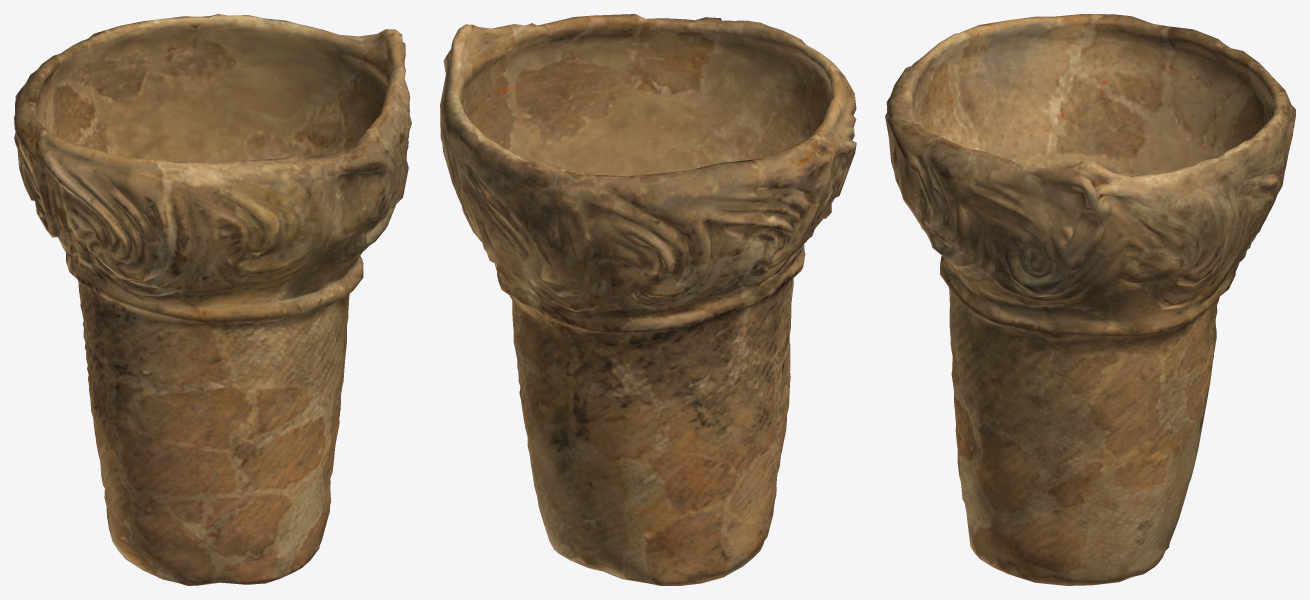
3 renders of one model, left to right at view 1: azimuth 30°, elevation 25°; view 2: azimuth 150°, elevation 25°; view 3: azimuth 270°, elevation 25°, orthographic. The views are drawn at different scales.
Visible parts, largest first — view 1: UD0308_low; view 2: UD0308_low; view 3: UD0308_low.
Part boxes in pixels (box(x1,y1,x2,y2)): UD0308_low: box(14, 14, 411, 585); UD0308_low: box(440, 14, 856, 585); UD0308_low: box(885, 14, 1295, 585).
Bounding box in the file's own units: 204 × 245 × 193.
Materials: 1 (1 with a texture image).
